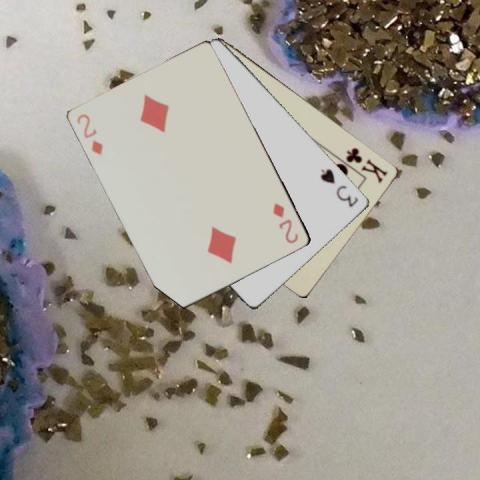2d: (74, 110, 105, 156), (270, 200, 300, 245)
3s: (318, 165, 361, 209)
Kc: (344, 145, 390, 184)
